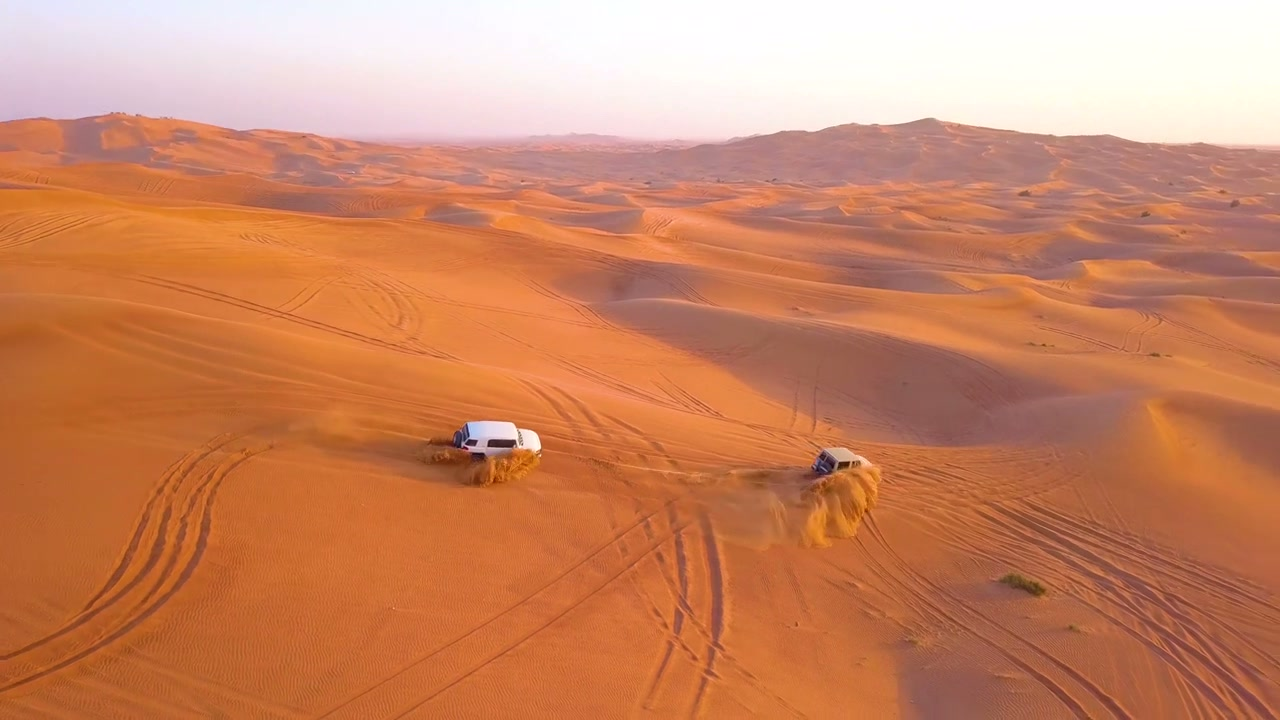vehicle_track: (319, 496, 694, 717), (0, 433, 271, 694), (976, 504, 1279, 717), (856, 515, 1131, 719), (0, 433, 235, 660), (469, 318, 803, 442), (637, 514, 803, 716), (1019, 503, 1279, 626), (124, 273, 454, 358), (468, 317, 671, 405), (837, 329, 1022, 409), (360, 266, 594, 328), (517, 380, 678, 468), (516, 273, 671, 352), (335, 259, 458, 358), (633, 531, 699, 709), (889, 450, 1080, 508), (352, 264, 459, 360), (518, 380, 625, 459), (690, 513, 725, 717), (1155, 313, 1279, 370), (595, 255, 717, 306), (512, 273, 618, 329), (822, 385, 925, 442), (351, 268, 421, 344), (601, 413, 679, 469), (0, 213, 112, 249), (517, 379, 583, 437), (655, 371, 722, 417), (276, 271, 347, 313), (696, 330, 776, 367), (1036, 324, 1120, 351), (1120, 309, 1163, 352), (239, 232, 311, 255), (807, 358, 823, 432), (787, 374, 802, 430), (642, 214, 675, 238), (136, 176, 174, 196), (0, 170, 50, 185)
